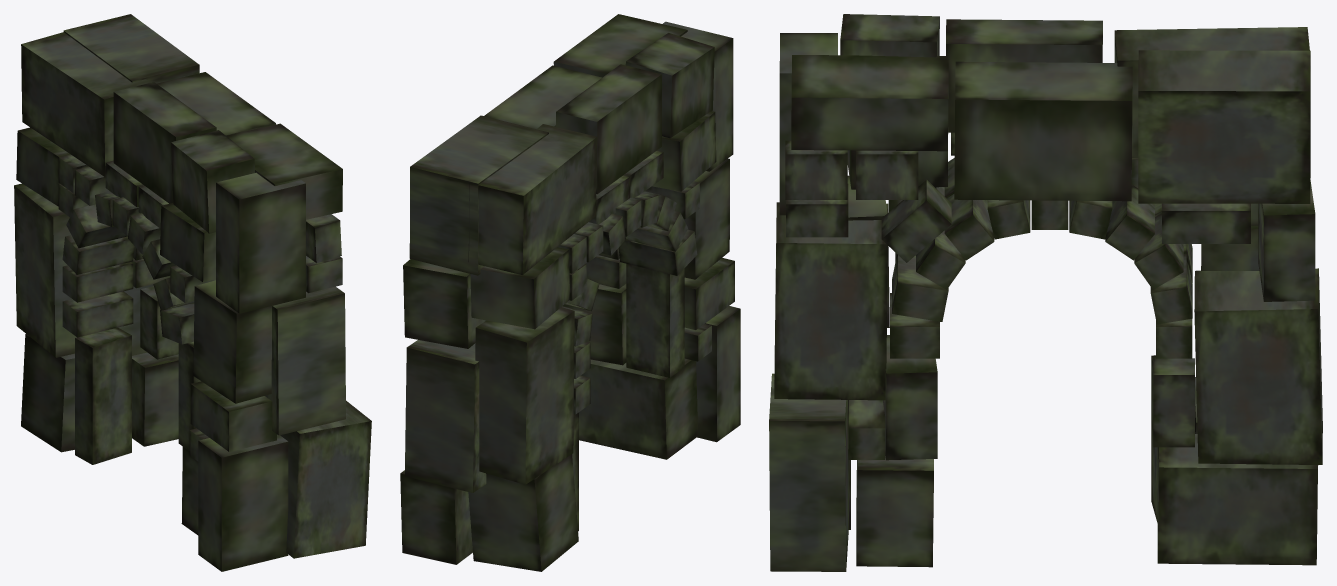
Rendered from ruin-archway-01.fbx.
3 renders of one model, left to right at view 1: azimuth 30°, elevation 25°; view 2: azimuth 150°, elevation 25°; view 3: azimuth 270°, elevation 25°, orthographic. The views are drawn at different scales.
Visible parts, largest first — view 1: archway_01; view 2: archway_01; view 3: archway_01.
Part boxes in pixels (x1,y1,x2,y2): archway_01: (14, 14, 371, 571); archway_01: (400, 14, 740, 571); archway_01: (769, 14, 1322, 571).
Size of the model in its own units: 167 by 430 by 445.
